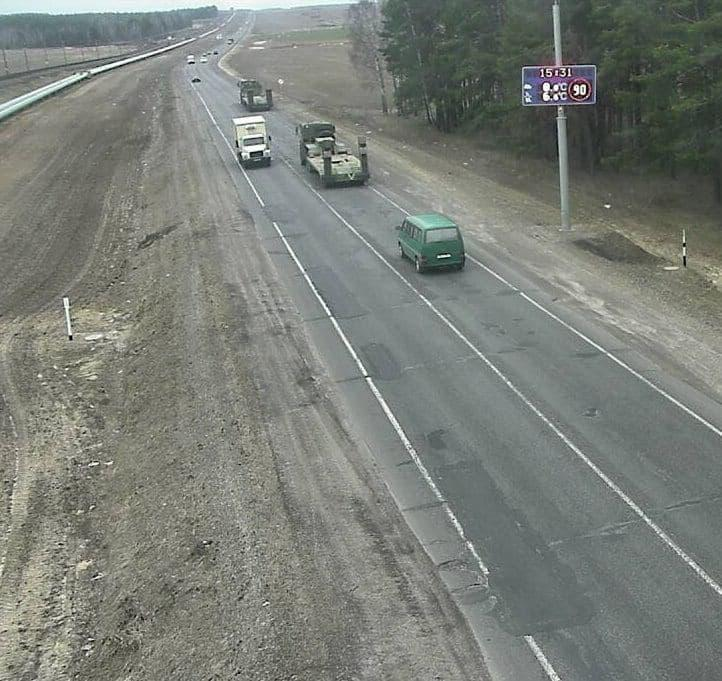car: (396, 206, 477, 278), (225, 117, 276, 166)
truck: (293, 115, 371, 186), (234, 77, 282, 114)
